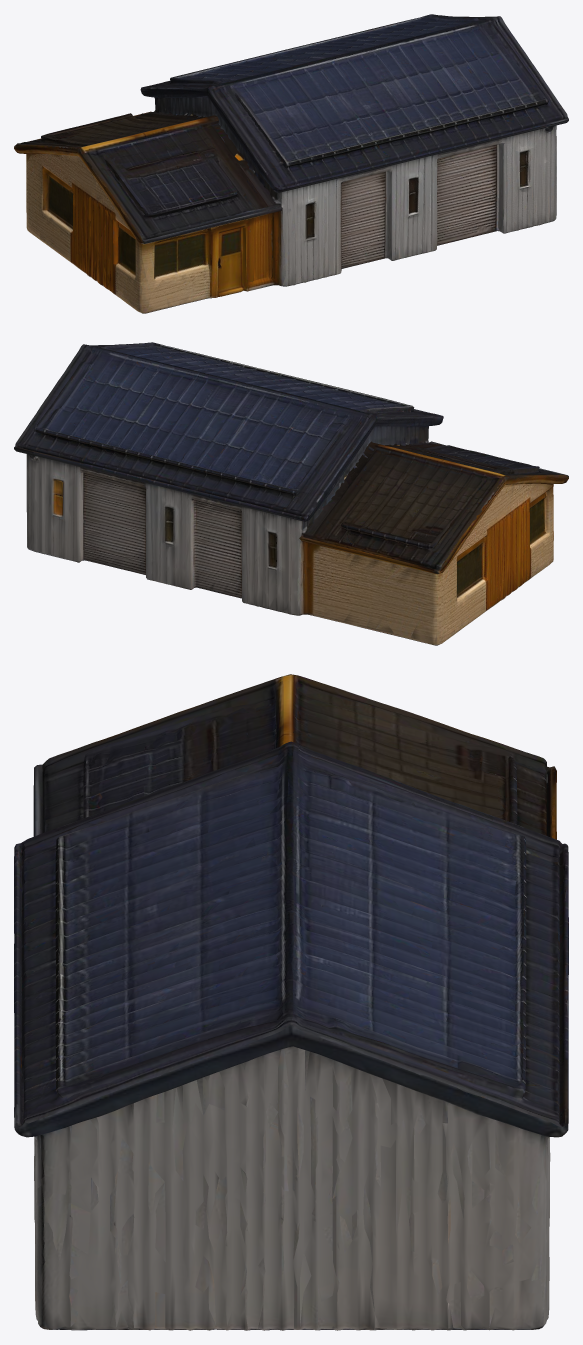
The model's file is maintenance-yard.glb.
3 views of the same model, one above another, from view 1: azimuth 30°, elevation 25°; view 2: azimuth 150°, elevation 25°; view 3: azimuth 270°, elevation 25° (orthographic). The views are drawn at different scales.
Visible parts, largest first — view 1: textured_mesh; view 2: textured_mesh; view 3: textured_mesh.
Boxes of the visible parts, x1,y1,x2,y2 form: textured_mesh: [14, 14, 568, 313]; textured_mesh: [14, 342, 568, 645]; textured_mesh: [14, 674, 568, 1330].
Size of the model in its own units: 1.99 by 0.7075 by 1.13.
Materials: 1 (1 with a texture image).
